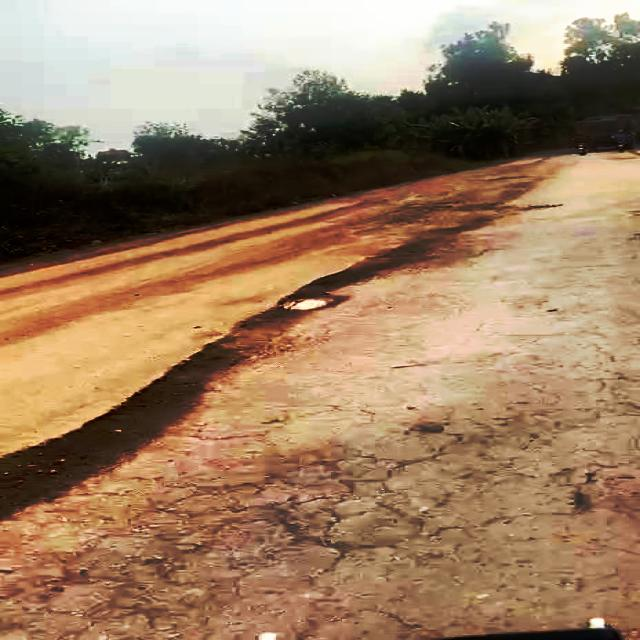pothole: (0, 344, 234, 513), (273, 293, 344, 312)
